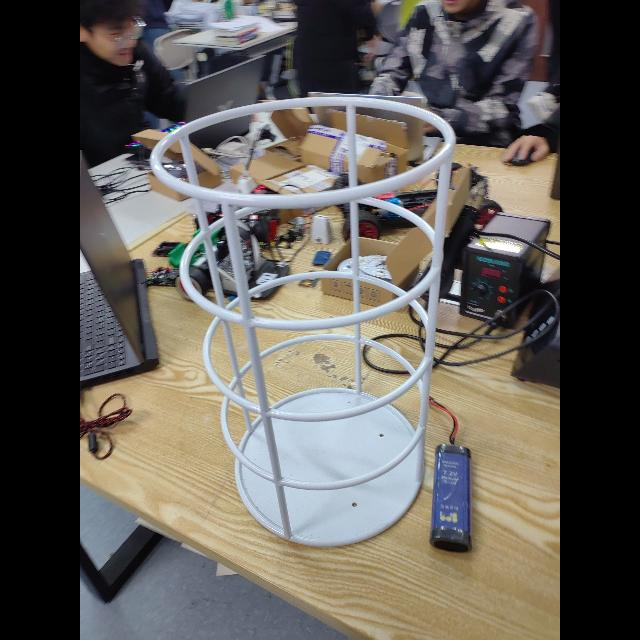S: (150, 91, 460, 554)
